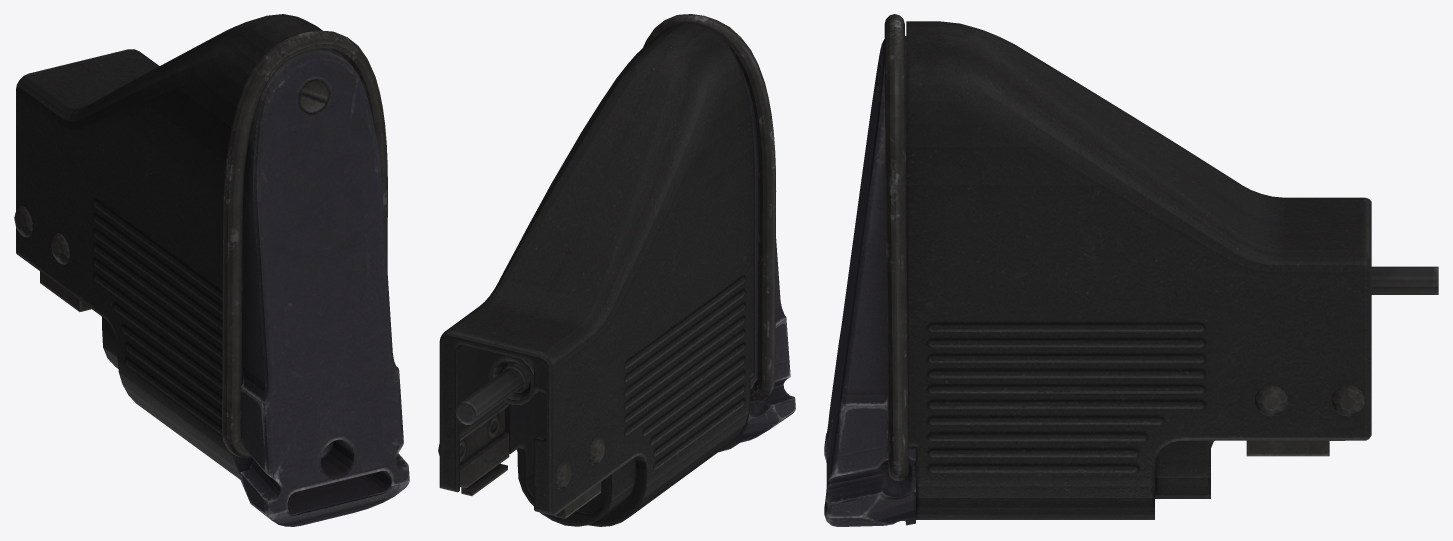
3 views of the same model, side by side, from view 1: azimuth 30°, elevation 25°; view 2: azimuth 150°, elevation 25°; view 3: azimuth 270°, elevation 25° (orthographic). The views are drawn at different scales.
Visible parts, largest first — view 1: TW_660126161347bc1a5f0f4dba_PZ_Import; view 2: TW_660126161347bc1a5f0f4dba_PZ_Import; view 3: TW_660126161347bc1a5f0f4dba_PZ_Import.
Boxes of the visible parts, bbox=[...] form: TW_660126161347bc1a5f0f4dba_PZ_Import: bbox=[14, 14, 409, 526]; TW_660126161347bc1a5f0f4dba_PZ_Import: bbox=[438, 14, 795, 526]; TW_660126161347bc1a5f0f4dba_PZ_Import: bbox=[824, 14, 1438, 526].
Bounding box in the file's own units: 0.0316 × 0.0996 × 0.0883.
Materials: 1 (1 with a texture image).
